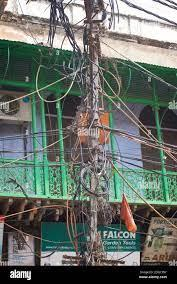wires: (101, 123, 177, 190), (71, 179, 107, 265), (46, 0, 85, 73), (1, 125, 90, 152)
